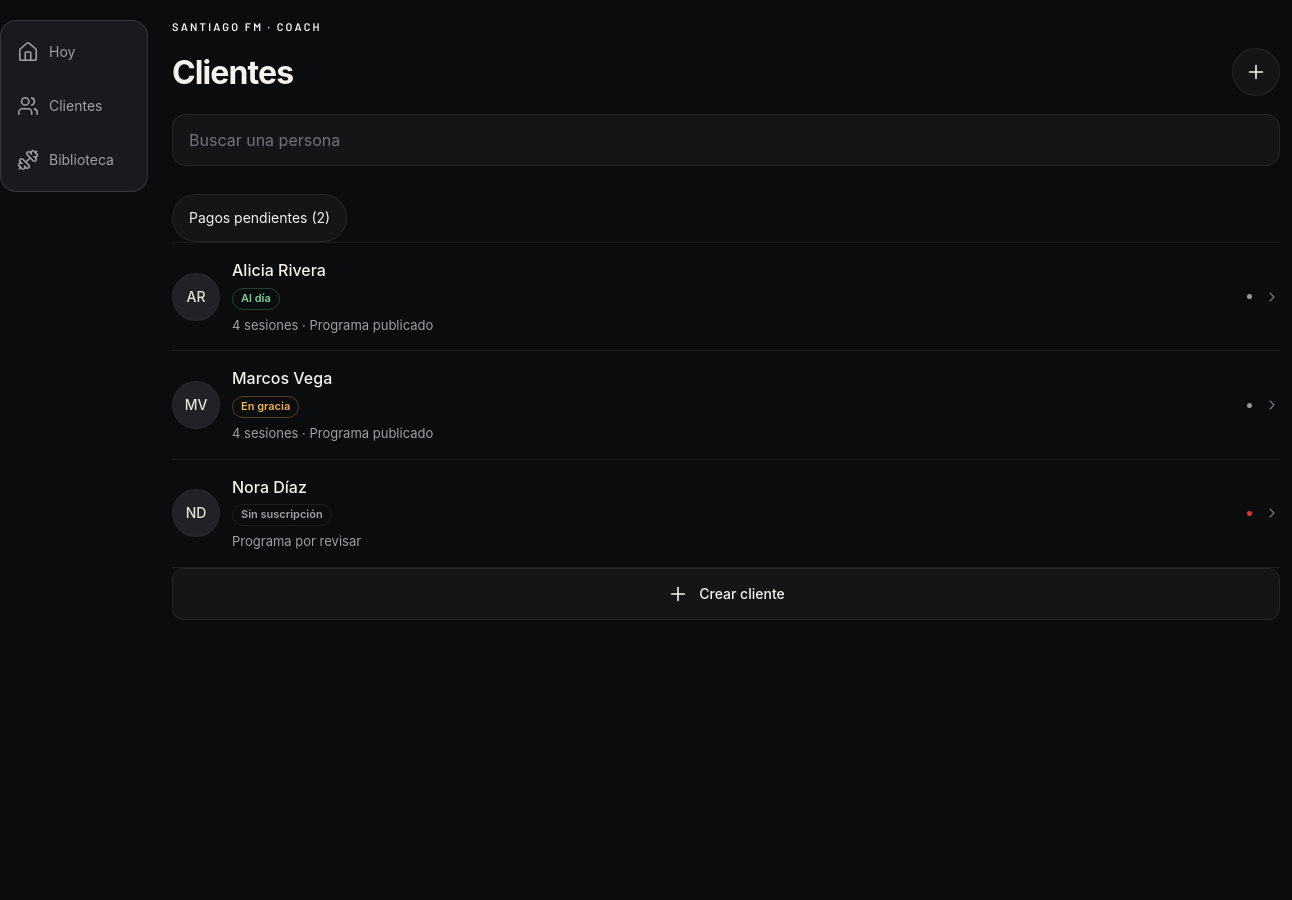
Ver todos los clientes también quita el filtro de pagos después de una búsqueda vacía
Click the button "Pagos pendientes (2)". click: coordinates (260, 218)
box: [172,194,347,242]
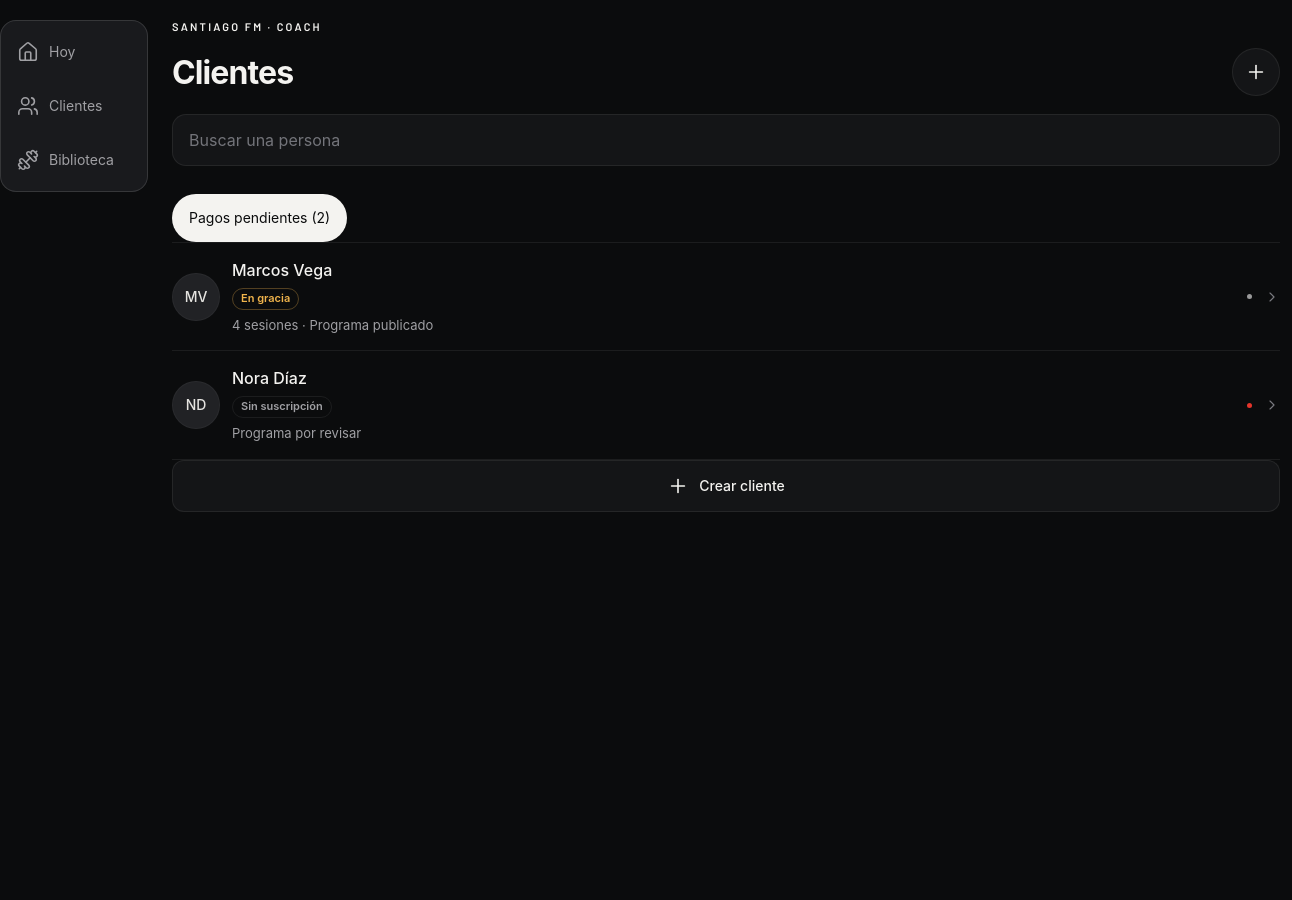
Now the link "Alicia Rivera" is gone
Type "Alicia" into the field named "Buscar cliente". click: coordinates (726, 140)
box: [172,114,1280,166]
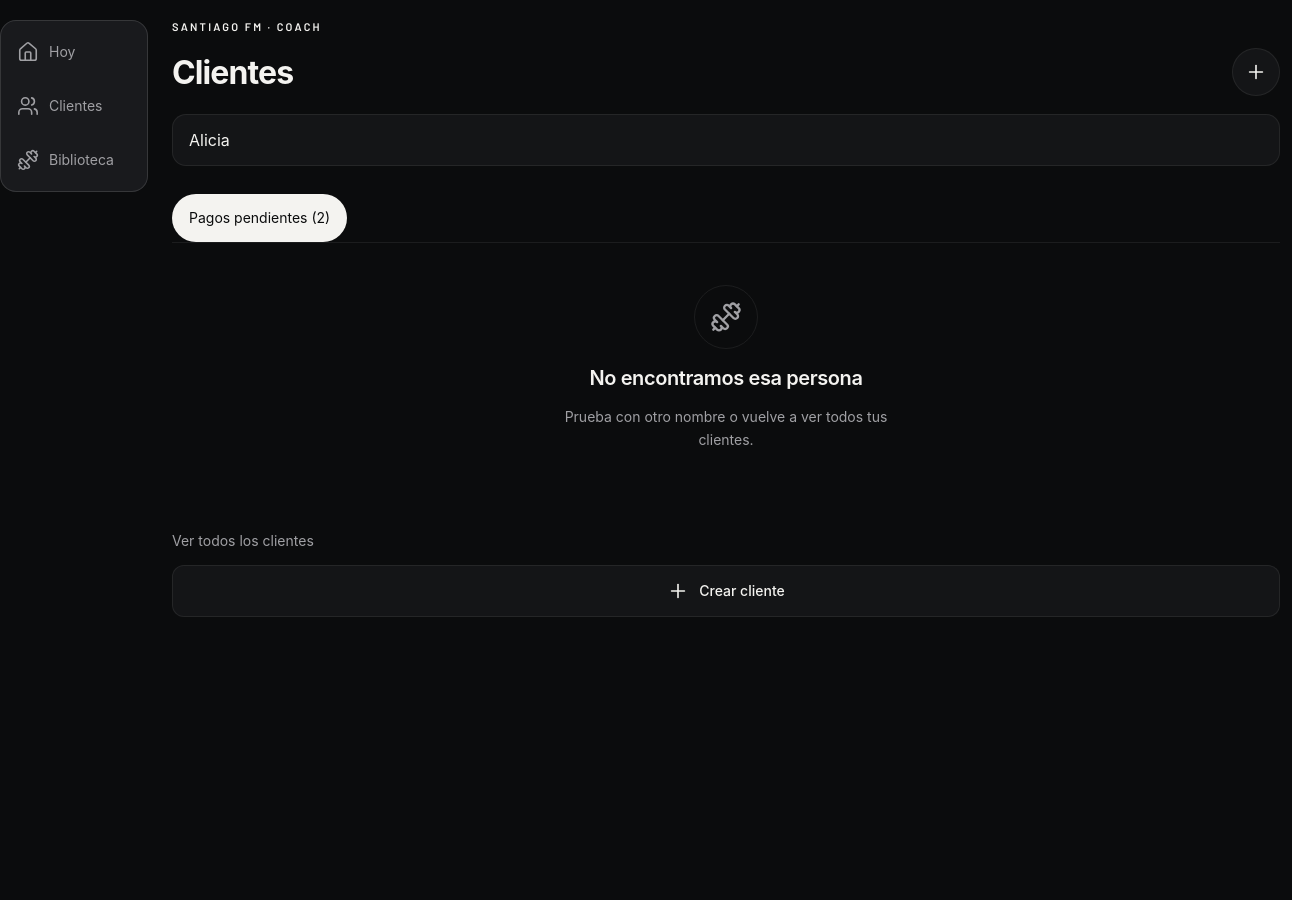
Now the heading "No encontramos esa persona" is shown, box [589,366,862,390]
Click the button "Ver todos los clientes". click: coordinates (243, 541)
box: [172,517,314,565]
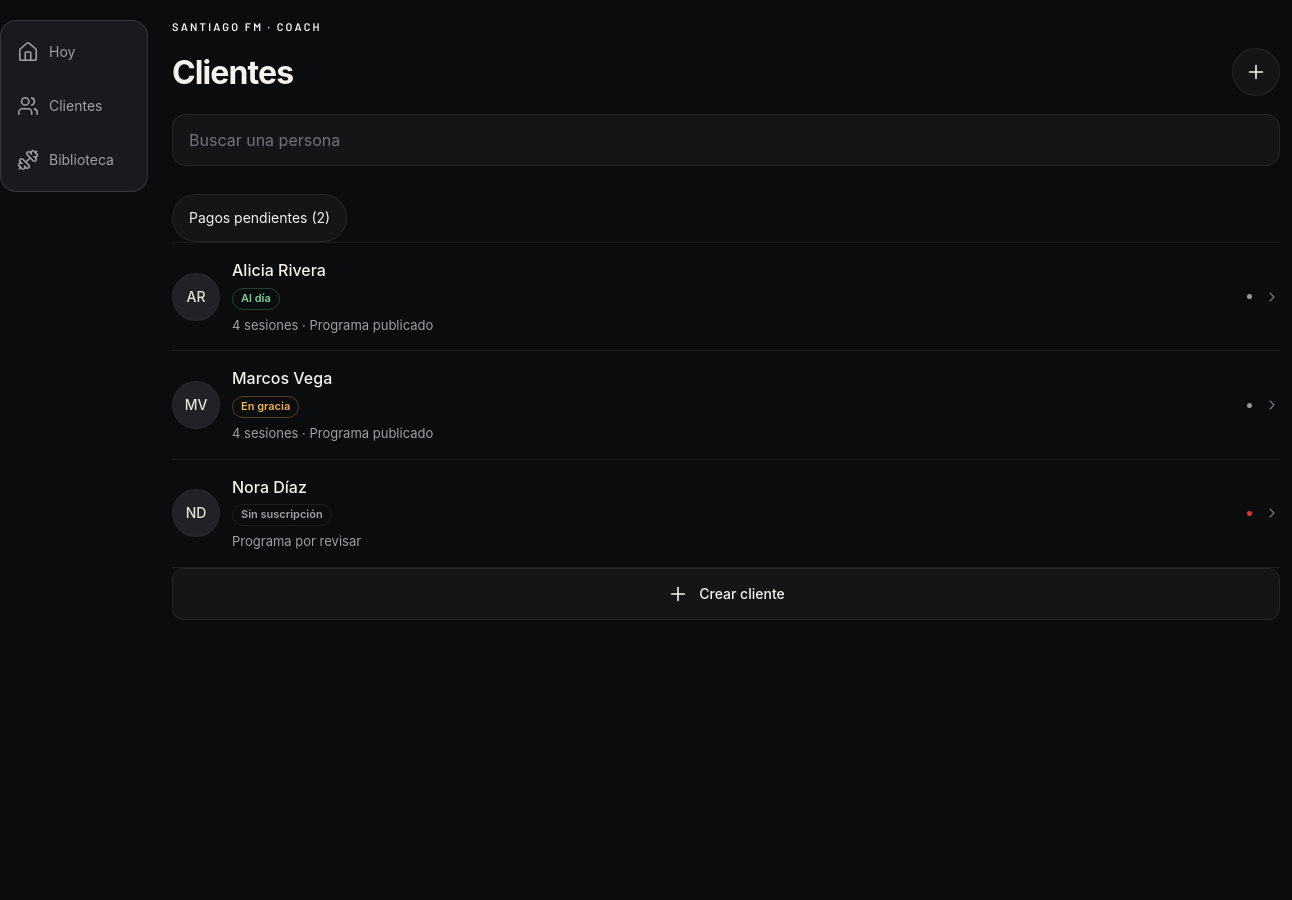
Now the text "Alicia Rivera" is shown, box [232,260,326,280]
Now the text "Marcos Vega" is shown, box [232,368,332,388]
Now the field named "Buscar cliente" is empty, box [172,114,1280,166]
